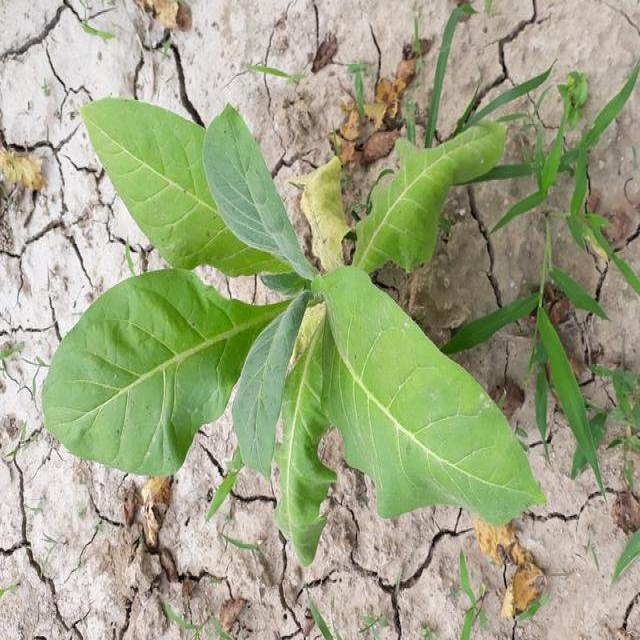crop: (57, 92, 530, 561)
